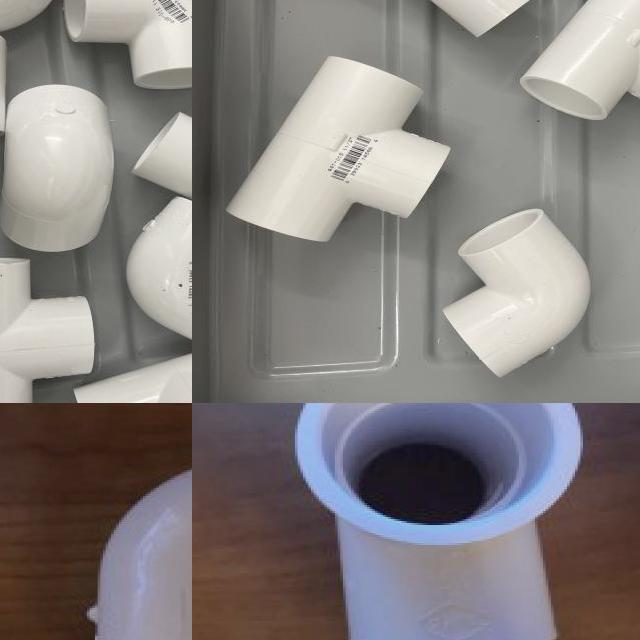L Joint: (440, 210, 591, 380), (88, 469, 192, 640), (133, 197, 192, 345)
T Joint: (225, 56, 446, 247), (0, 259, 94, 403)
